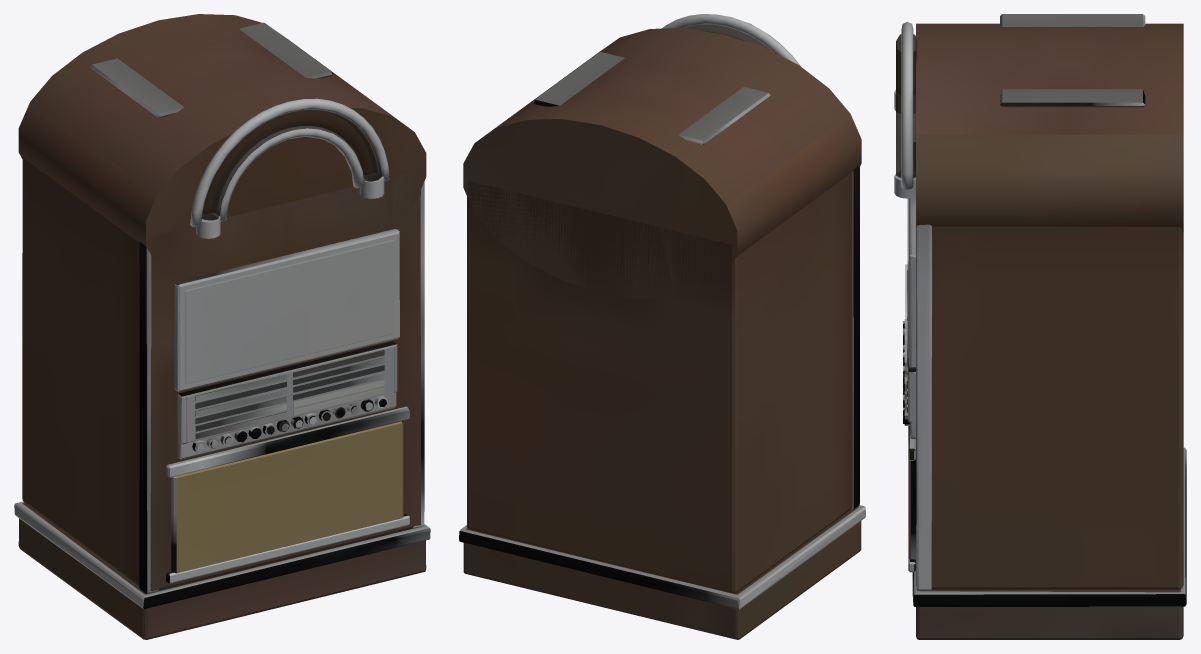
File: jukebox.glb
3 renders of one model, left to right at view 1: azimuth 30°, elevation 25°; view 2: azimuth 150°, elevation 25°; view 3: azimuth 270°, elevation 25°, orthographic. The views are drawn at different scales.
Parts seen in each view (by area): view 1: prop-jukebox, BubbleArch; view 2: prop-jukebox, BubbleArch; view 3: prop-jukebox, BubbleArch.
Boxes of the visible parts, x1,y1,x2,y2 form: prop-jukebox: (14,14,430,639); BubbleArch: (190,98,389,238); prop-jukebox: (459,28,865,639); BubbleArch: (662,14,800,66); prop-jukebox: (903,14,1186,639); BubbleArch: (894,21,917,198).
Size of the model in its own units: 0.916 by 1.55 by 0.764.
Materials: 3 (1 with a texture image).
